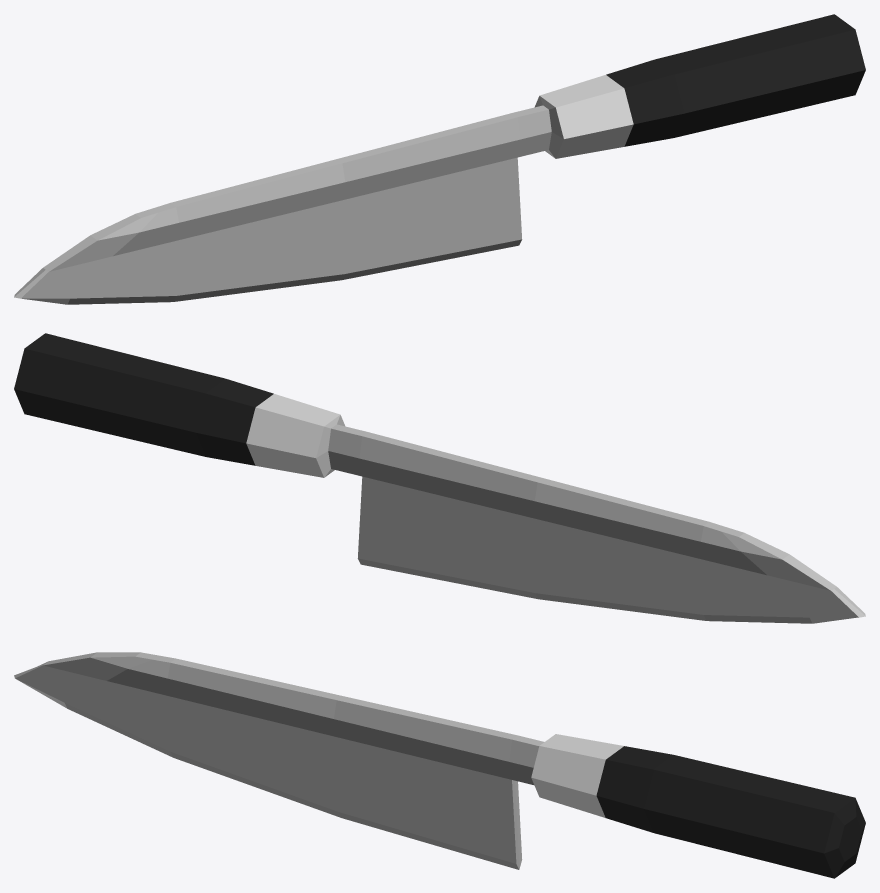
The model's file is Fisherman's Knife.fbx.
3 views of the same model, one above another, from view 1: azimuth 30°, elevation 25°; view 2: azimuth 150°, elevation 25°; view 3: azimuth 330°, elevation 25° (orthographic).
Visible parts, largest first — view 1: Deba Knife; view 2: Deba Knife; view 3: Deba Knife.
Boxes of the visible parts, left/top/right/bottom form: Deba Knife: left=14, top=14, right=865, bottom=304; Deba Knife: left=14, top=333, right=865, bottom=623; Deba Knife: left=14, top=652, right=865, bottom=878.
Bounding box in the file's own units: 45.22 × 7.45 × 3.92.
